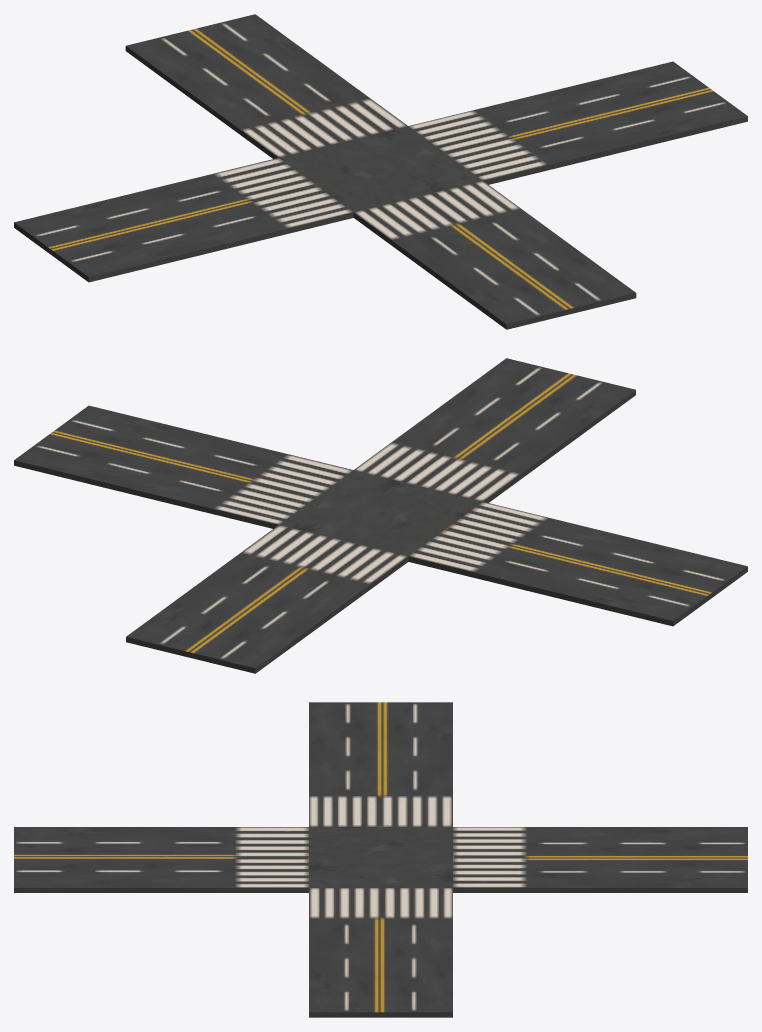
Rendered from 4 şeritli yol ( 4 kavşaklı hali ).fbx.
3 views of the same model, one above another, from view 1: azimuth 30°, elevation 25°; view 2: azimuth 150°, elevation 25°; view 3: azimuth 270°, elevation 25° (orthographic). The views are drawn at different scales.
Visible parts, largest first — view 1: Plane.001; view 2: Plane.001; view 3: Plane.001.
Part boxes in pixels (bbox=[...]): Plane.001: bbox=[14, 14, 747, 329]; Plane.001: bbox=[14, 358, 747, 673]; Plane.001: bbox=[14, 702, 747, 1017].
Bounding box in the file's own units: 4336 × 34.05 × 4336.
1 material, 1 textured.
